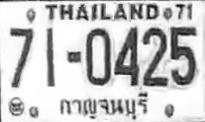0: (85, 27, 110, 85)
1: (45, 27, 54, 87)
2: (142, 27, 166, 86)
4: (114, 26, 138, 85)
5: (170, 26, 196, 85)
7: (8, 27, 33, 88), (8, 27, 33, 69)
KRI: (55, 91, 151, 122)
